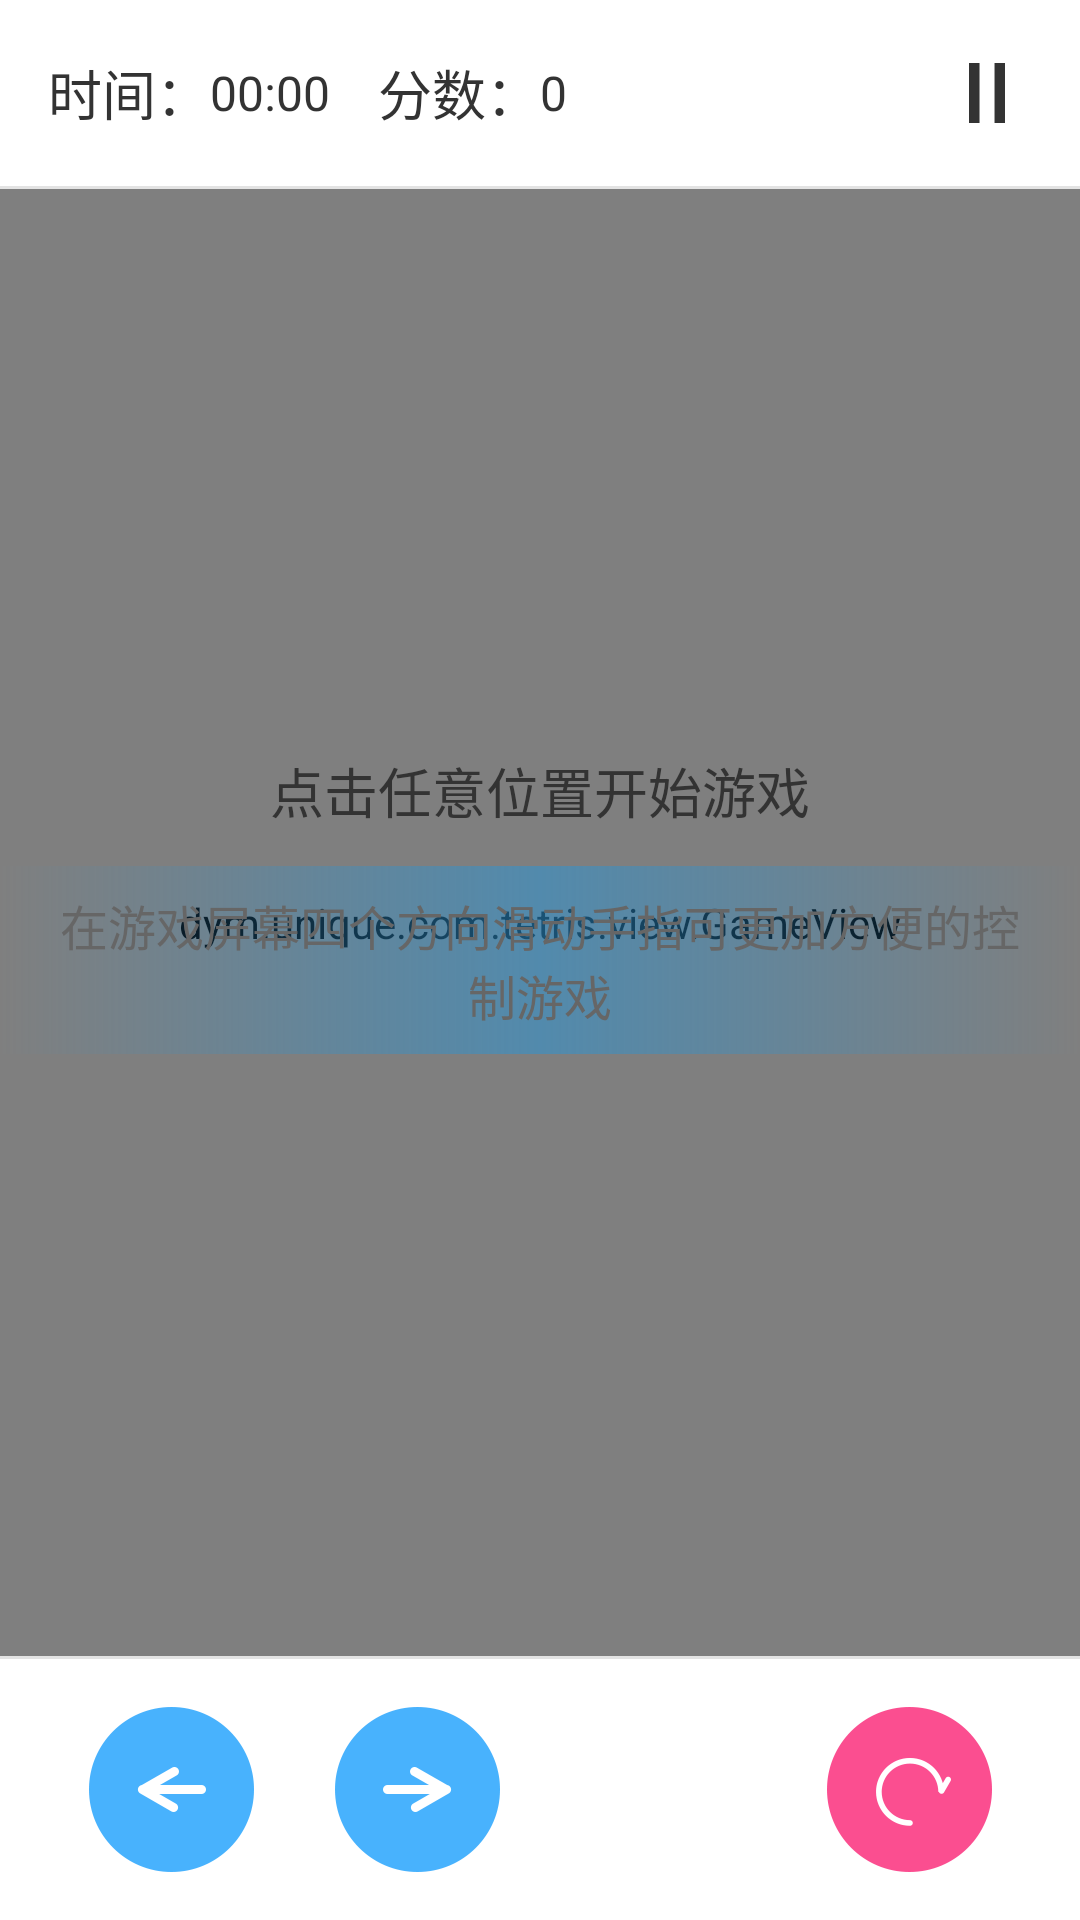

Icons on this 1080x1920 Android screen, each with the point to tap as (x,y):
left: (171,1789)
pause: (987,93)
right: (417,1789)
rotate: (909,1789)
